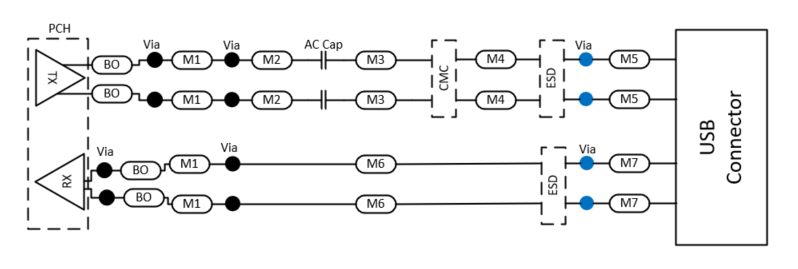capacitor: (316, 50, 332, 73), (314, 89, 330, 112)
circle: (223, 193, 243, 213), (93, 159, 113, 179), (96, 187, 116, 207), (145, 51, 164, 70), (145, 90, 164, 109), (223, 50, 242, 69), (222, 90, 241, 109), (576, 50, 595, 69), (576, 89, 595, 108), (577, 154, 596, 173), (577, 194, 596, 213), (222, 154, 241, 173)
dotted_rectangle: (19, 36, 90, 232), (424, 35, 459, 127), (535, 32, 570, 124), (534, 136, 569, 228)
oval: (472, 47, 519, 72), (473, 86, 520, 111), (606, 47, 653, 72), (604, 85, 651, 110), (605, 150, 652, 175), (606, 190, 653, 215), (352, 151, 399, 176), (352, 191, 399, 216), (165, 152, 212, 177), (168, 190, 215, 215), (91, 52, 135, 78), (90, 80, 134, 106), (170, 48, 214, 74), (250, 47, 294, 73), (353, 48, 397, 74), (170, 87, 214, 113), (249, 86, 293, 112), (354, 86, 398, 112), (123, 186, 165, 209), (120, 160, 162, 183)
rectangle: (669, 23, 773, 250)
triangle: (32, 44, 85, 107), (32, 149, 85, 212)
